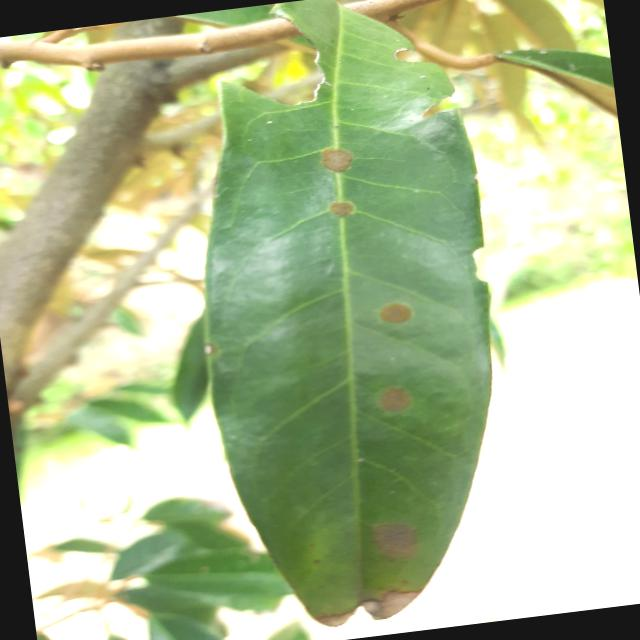Algal Leaf Spot: (156, 0, 541, 639)
